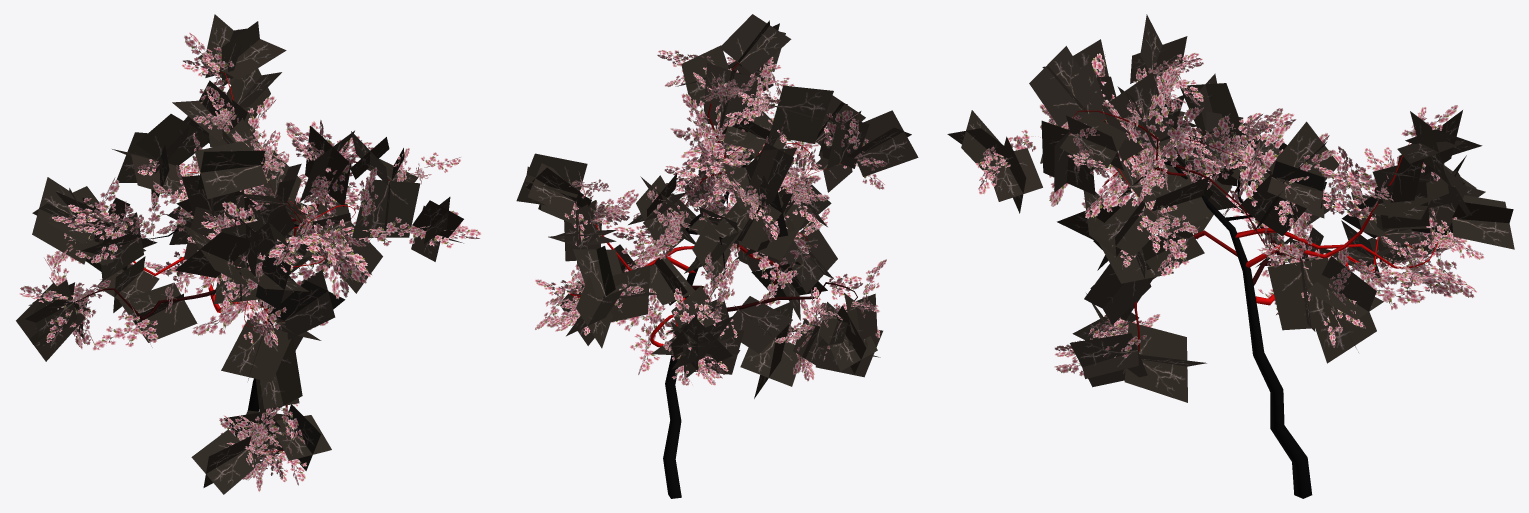
The model's file is sakura1 lod0.FBX.
3 views of the same model, side by side, from view 1: azimuth 30°, elevation 25°; view 2: azimuth 150°, elevation 25°; view 3: azimuth 270°, elevation 25° (orthographic). The views are drawn at different scales.
Parts seen in each view (by area): view 1: sakura1; view 2: sakura1; view 3: sakura1.
Boxes of the visible parts, <box> form: sakura1: <box>16,14,481,494</box>; sakura1: <box>516,14,918,498</box>; sakura1: <box>947,14,1514,498</box>.
Bounding box in the file's own units: 95894 × 112810 × 127687.
